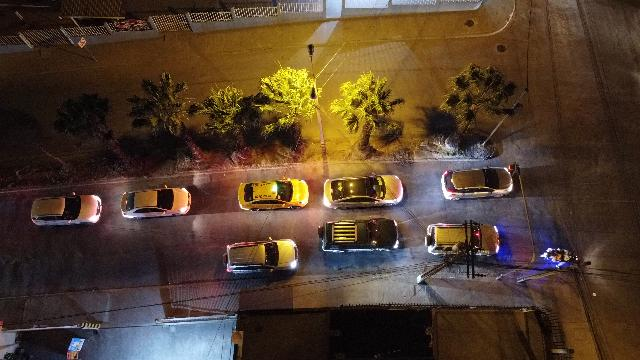Vehiculo: (323, 173, 403, 209), (318, 218, 402, 252), (222, 238, 298, 274), (424, 222, 500, 258), (441, 167, 513, 201), (30, 193, 101, 227), (238, 177, 308, 211), (121, 187, 191, 219)
